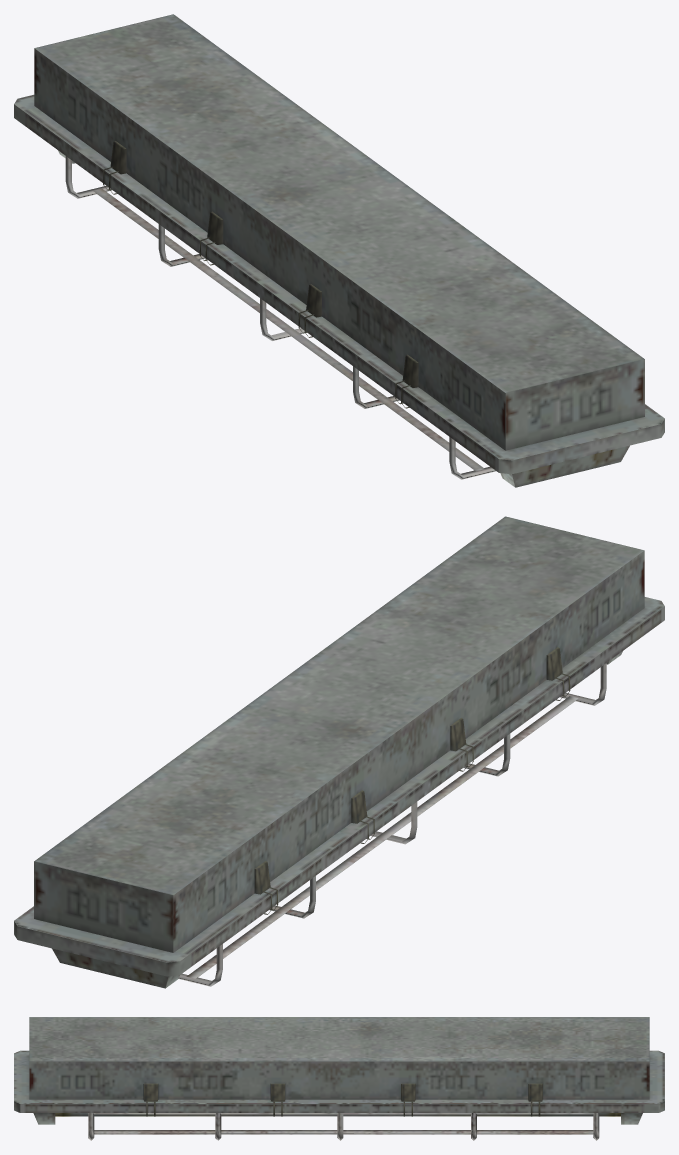
The model's file is sm35_046_offfluorescentlight02a.fbx.
3 renders of one model, top to bottom at view 1: azimuth 30°, elevation 25°; view 2: azimuth 150°, elevation 25°; view 3: azimuth 270°, elevation 25°, orthographic. The views are drawn at different scales.
Visible parts, largest first — view 1: LOD_1_Group_0_Sub_2__sm35_006_FluorescentLight01A_A_Mat; view 2: LOD_1_Group_0_Sub_2__sm35_006_FluorescentLight01A_A_Mat; view 3: LOD_1_Group_0_Sub_2__sm35_006_FluorescentLight01A_A_Mat, LOD_1_Group_0_Sub_1__sm35_006_FluorescentLight01A_A_Mat__Env.
Part boxes in pixels (left/top/right/bottom): LOD_1_Group_0_Sub_2__sm35_006_FluorescentLight01A_A_Mat: left=14, top=14, right=664, bottom=487; LOD_1_Group_0_Sub_2__sm35_006_FluorescentLight01A_A_Mat: left=14, top=516, right=664, bottom=988; LOD_1_Group_0_Sub_2__sm35_006_FluorescentLight01A_A_Mat: left=14, top=1017, right=664, bottom=1140; LOD_1_Group_0_Sub_1__sm35_006_FluorescentLight01A_A_Mat__Env: left=63, top=1113, right=614, bottom=1116.
Size of the model in its own units: 0.3796 by 0.2636 by 1.93.
